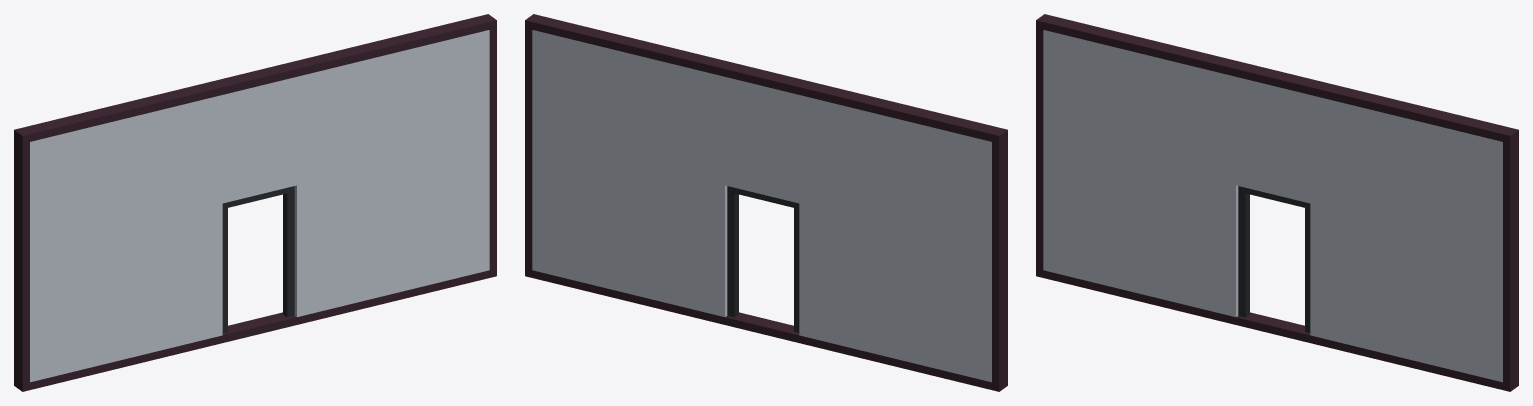
Rendered from Wall (64x32x4) With Door (8x12).fbx.
3 renders of one model, left to right at view 1: azimuth 30°, elevation 25°; view 2: azimuth 150°, elevation 25°; view 3: azimuth 330°, elevation 25°, orthographic.
Parts seen in each view (by area): view 1: generated; view 2: generated; view 3: generated.
Boxes of the visible parts, x1=… form: generated: x1=14, y1=14, x2=496, y2=391; generated: x1=525, y1=14, x2=1007, y2=391; generated: x1=1036, y1=14, x2=1518, y2=391.
Size of the model in its own units: 2560 by 1320 by 80.
